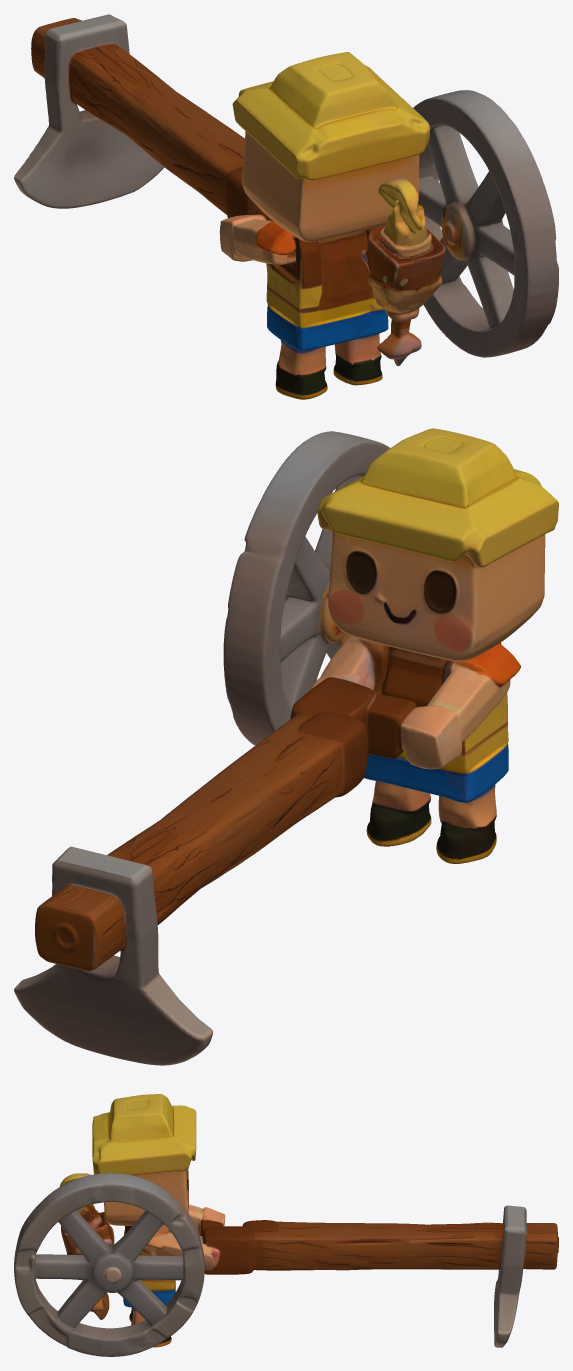
The model's file is plow.glb.
The picture shows the model from 3 angles, top to bottom: view 1: azimuth 30°, elevation 25°; view 2: azimuth 150°, elevation 25°; view 3: azimuth 270°, elevation 25°; orthographic projection. The views are drawn at different scales.
Parts seen in each view (by area): view 1: tripo_node_77084c22-7d72-4c85-a413-6541f048ea1b; view 2: tripo_node_77084c22-7d72-4c85-a413-6541f048ea1b; view 3: tripo_node_77084c22-7d72-4c85-a413-6541f048ea1b.
Part boxes in pixels (x1,y1,x2,y2): tripo_node_77084c22-7d72-4c85-a413-6541f048ea1b: (14,14,558,399); tripo_node_77084c22-7d72-4c85-a413-6541f048ea1b: (14,428,558,1065); tripo_node_77084c22-7d72-4c85-a413-6541f048ea1b: (14,1094,558,1356).
Bounding box in the file's own units: 0.316 × 0.463 × 1.
1 material, 1 textured.
